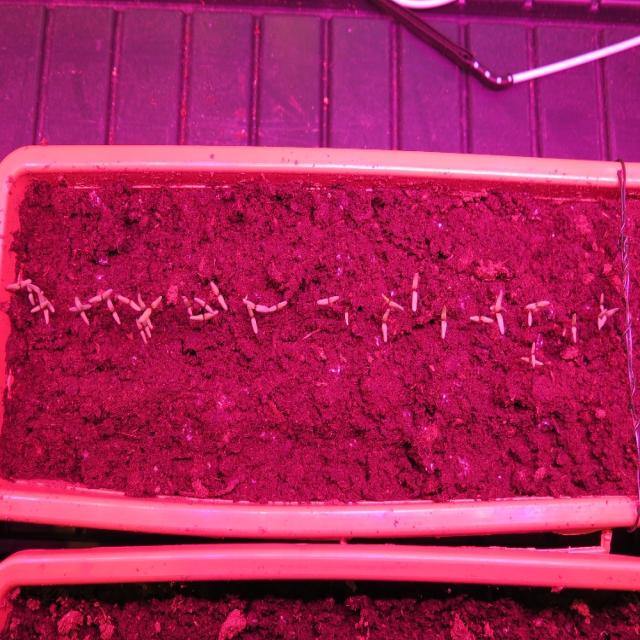crop: (315, 292, 339, 306), (410, 270, 418, 312), (380, 306, 389, 343), (468, 312, 493, 324), (439, 303, 446, 339), (570, 310, 576, 345), (343, 303, 349, 326)
